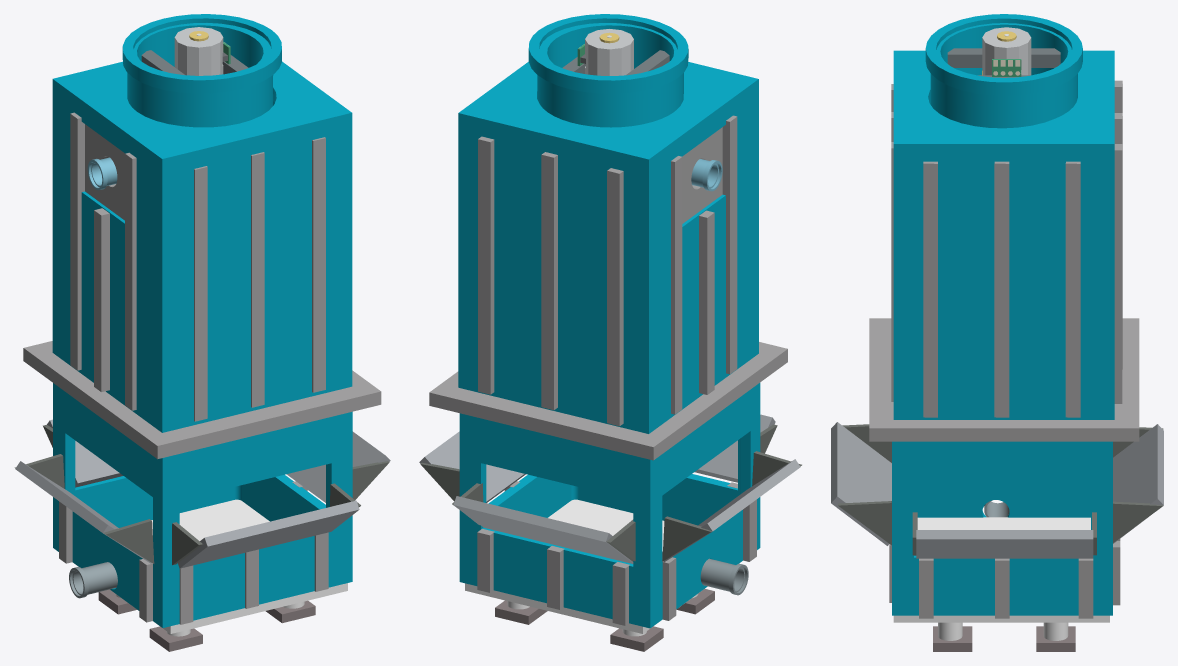
Rendered from Torre de Resfriamento v1.glb.
3 views of the same model, side by side, from view 1: azimuth 30°, elevation 25°; view 2: azimuth 150°, elevation 25°; view 3: azimuth 270°, elevation 25° (orthographic).
Visible parts, largest first — view 1: Body1, Body3; view 2: Body1, Body3; view 3: Body1.
Boxes of the visible parts, x1,y1,x2,y2 form: Body1: [14, 14, 390, 651]; Body3: [87, 157, 117, 190]; Body1: [419, 14, 801, 651]; Body3: [691, 159, 722, 191]; Body1: [831, 14, 1163, 651].
Size of the model in its own units: 0.0688 by 0.1298 by 0.0678.
